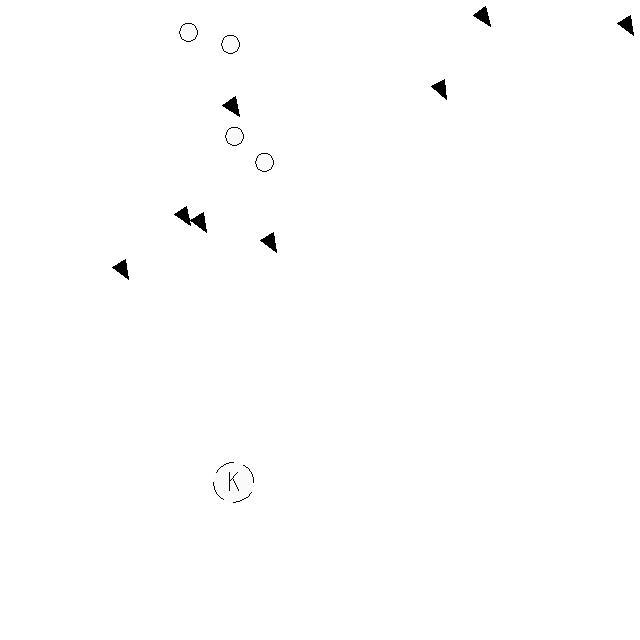Kolodech: (224, 125, 246, 147), (220, 33, 241, 55), (254, 152, 275, 174), (178, 21, 198, 43)
Kyst: (212, 460, 255, 504)
Otmetka: (220, 94, 242, 118), (471, 4, 492, 29), (110, 257, 131, 281), (616, 13, 635, 38), (259, 230, 278, 254), (430, 77, 448, 102), (190, 210, 208, 234), (173, 205, 192, 227)
